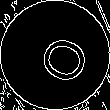O_NW: (22, 24, 88, 86)
